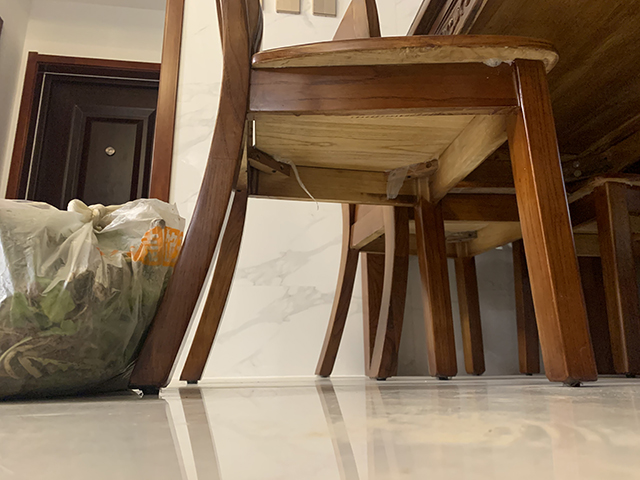stool: (126, 1, 597, 395), (314, 1, 541, 381)
